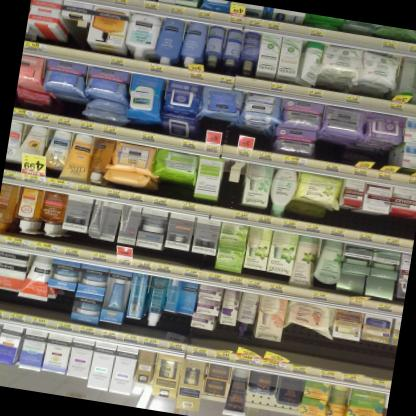empty_space: (215, 157, 247, 202)
